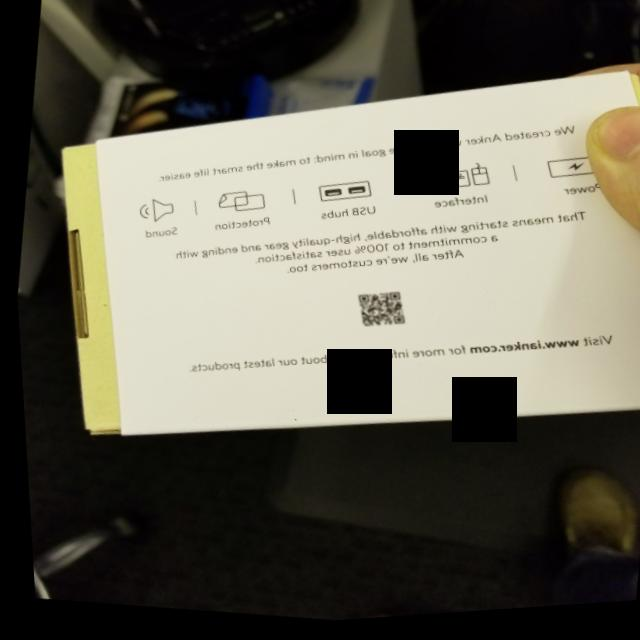QR_CODE: (338, 280, 414, 351)
